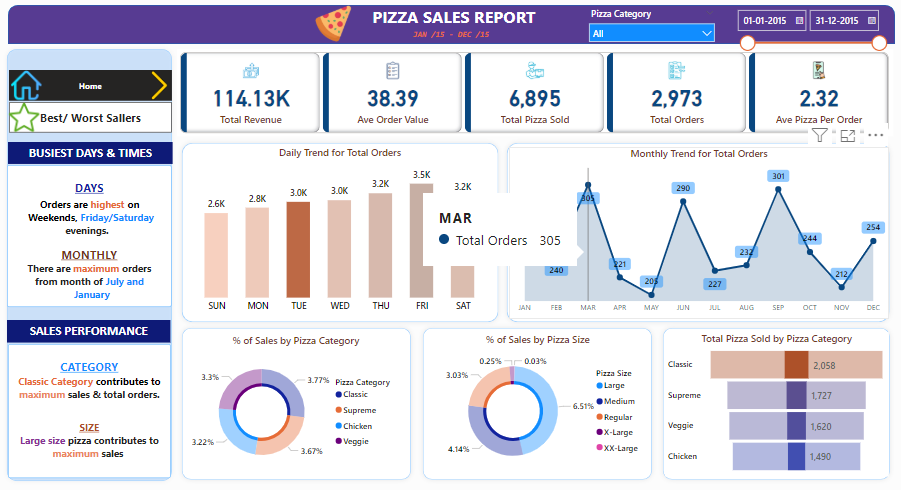

This screenshot's page, from the dashboard's own definition file:
{"tool":"powerbi","page":{"name":"Home","canvas":[1500,820],"ordinal":0},"visuals":[{"type":"shape","box":[16.7,78.3,286.7,725],"z":0},{"type":"textbox","box":[25.7,240,270,35.7],"z":1000},{"type":"cardVisual","fields":{"Data":["pizza_sales.Total Revenue","pizza_sales.Ave Order Value","pizza_sales.Total Pizza Sold","pizza_sales.Total Orders","pizza_sales.Ave Pizza Per Order"]},"box":[303.3,86.7,1175,143.3],"z":2000},{"type":"shape","box":[26.2,14.8,1454.7,64],"z":3000},{"type":"textbox","box":[603.5,9.8,300.1,49.2],"z":4000},{"type":"textbox","box":[685.5,47.6,157.4,27.9],"z":5000},{"type":"image","box":[523.2,9.8,73.8,70.5],"z":6000},{"type":"shape","box":[303.3,233.3,535,310],"z":7000},{"type":"columnChart","title":"Daily Trend for Total Orders","fields":{"Category":["pizza_sales.Order Day"],"Y":["pizza_sales.Total Orders"]},"box":[316.7,246.7,508.3,281.7],"z":8000},{"type":"shape","box":[836.7,233.3,643.3,310],"z":9000},{"type":"areaChart","title":"Monthly Trend for Total Orders","fields":{"Y":["pizza_sales.Total Orders"],"Category":["pizza_sales.Order Month"]},"box":[848.3,248.3,623.3,281.7],"z":10000},{"type":"shape","box":[303.3,536.7,391.7,265],"z":11000},{"type":"shape","box":[1091.7,536.7,388.3,265],"z":12000},{"type":"shape","box":[698.3,536.7,391.7,265],"z":13000},{"type":"donutChart","title":"% of Sales by Pizza Category","fields":{"Category":["pizza_sales.pizza_category"],"Y":["pizza_sales.Total Revenue"]},"box":[316.7,555,363.3,235],"z":14000},{"type":"donutChart","title":"% of Sales by Pizza Size","fields":{"Y":["pizza_sales.Total Revenue"],"Category":["pizza_sales.pizza_size"]},"box":[713.3,553.3,363.3,235],"z":15000},{"type":"funnel","title":"Total Pizza Sold by Pizza Category","fields":{"Y":["pizza_sales.Total Pizza Sold"],"Category":["pizza_sales.pizza_category"]},"box":[1103.3,551.7,366.7,236.7],"z":16000},{"type":"textbox","box":[25,276.7,270,233.3],"z":17000},{"type":"textbox","box":[26.7,570,266.7,220],"z":18000},{"type":"textbox","box":[25,531.7,268.3,36.7],"z":19000},{"type":"slicer","fields":{"Values":["pizza_sales.pizza_category"]},"box":[969.2,13.1,226.3,62.3],"z":20000},{"type":"multiRowCard","fields":{"Values":["pizza_sales.order_date"]},"box":[1210.3,13.1,265.7,83.6],"z":21000},{"type":"pageNavigator","box":[27.1,121.4,267.1,50],"z":22000},{"type":"pageNavigator","box":[27.1,174.3,267.1,50],"z":23000},{"type":"image","box":[246.7,118.3,56.7,56.7],"z":24000},{"type":"image","box":[26.7,116.7,60,60],"z":25000},{"type":"image","box":[20,168.3,66.7,60],"z":26000}]}

Visuals, with their boxes in screenshot pixels (x1, y1, x2, y2), scaled from the page's 1500x820 canvas onto the 901x490 screenshot:
shape: (left=10, top=47, right=182, bottom=480)
textbox: (left=15, top=143, right=178, bottom=165)
cardVisual - pizza_sales.Total Revenue x pizza_sales.Ave Order Value: (left=182, top=52, right=888, bottom=137)
shape: (left=16, top=9, right=890, bottom=47)
textbox: (left=363, top=6, right=543, bottom=35)
textbox: (left=412, top=28, right=506, bottom=45)
image: (left=314, top=6, right=359, bottom=48)
shape: (left=182, top=139, right=504, bottom=325)
"Daily Trend for Total Orders" columnChart: (left=190, top=147, right=496, bottom=316)
shape: (left=503, top=139, right=889, bottom=325)
"Monthly Trend for Total Orders" areaChart: (left=510, top=148, right=884, bottom=317)
shape: (left=182, top=321, right=417, bottom=479)
shape: (left=656, top=321, right=889, bottom=479)
shape: (left=419, top=321, right=655, bottom=479)
"% of Sales by Pizza Category" donutChart: (left=190, top=332, right=408, bottom=472)
"% of Sales by Pizza Size" donutChart: (left=428, top=331, right=647, bottom=471)
"Total Pizza Sold by Pizza Category" funnel: (left=663, top=330, right=883, bottom=471)
textbox: (left=15, top=165, right=177, bottom=305)
textbox: (left=16, top=341, right=176, bottom=472)
textbox: (left=15, top=318, right=176, bottom=340)
slicer - pizza_sales.pizza_category: (left=582, top=8, right=718, bottom=45)
multiRowCard - pizza_sales.order_date: (left=727, top=8, right=887, bottom=58)
pageNavigator: (left=16, top=73, right=177, bottom=102)
pageNavigator: (left=16, top=104, right=177, bottom=134)
image: (left=148, top=71, right=182, bottom=105)
image: (left=16, top=70, right=52, bottom=106)
image: (left=12, top=101, right=52, bottom=136)
